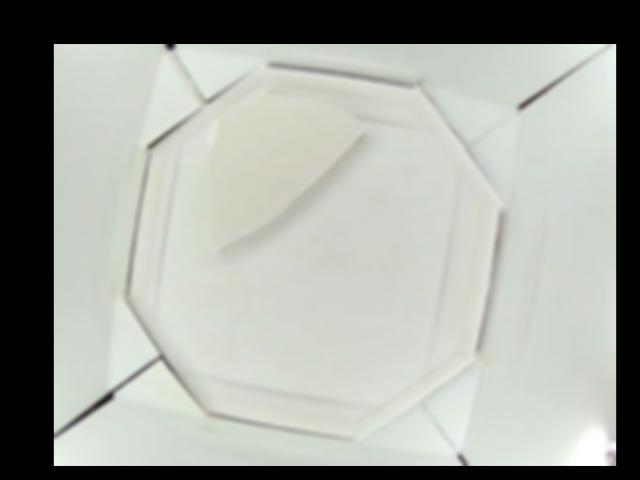China: (195, 88, 363, 250)
